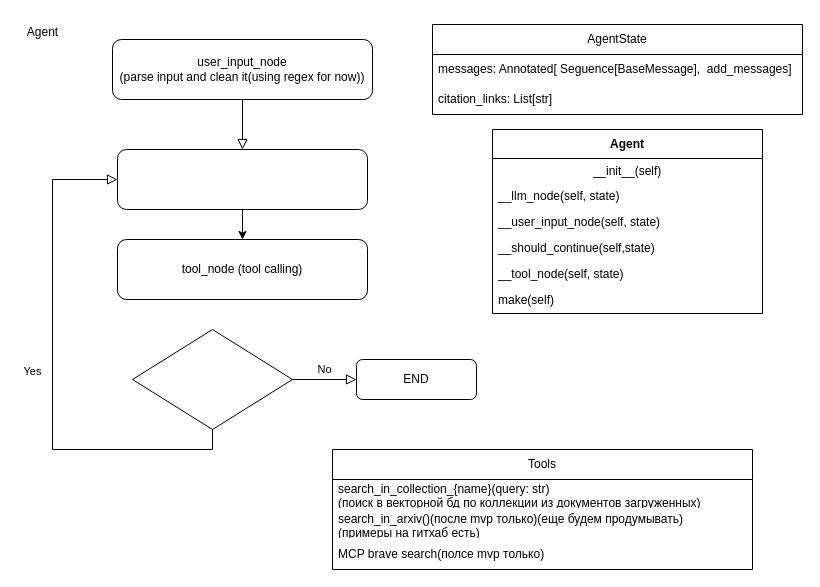
This 820x587 diagram has some shape labels left out. Here are the shapes that lost their labels. From the top down, the centre of each, then its label:
At point (242, 179): "llm_node (calling llm)".
At point (212, 379): "should_continue".
